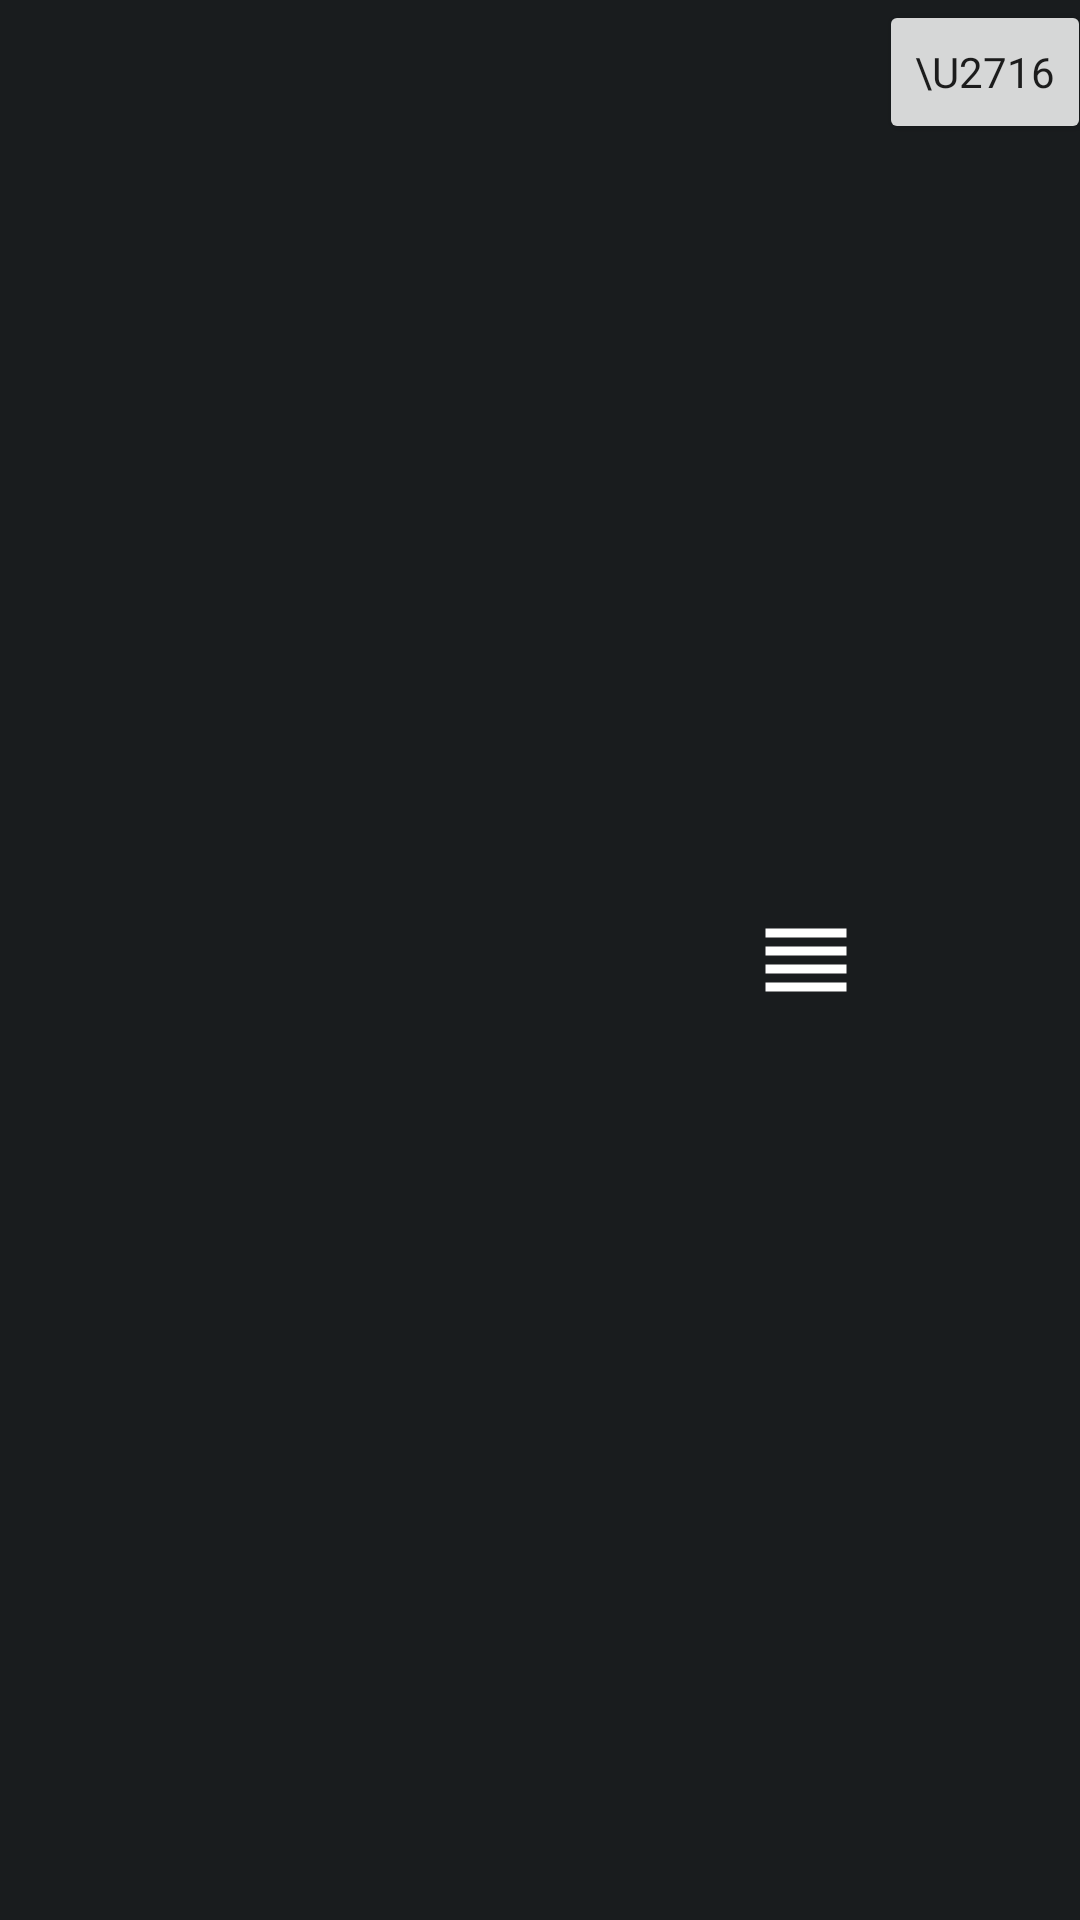

Where to tap for icons on this 1080w x 1920h app screen, as [x,y]:
reorder: [806,960]
